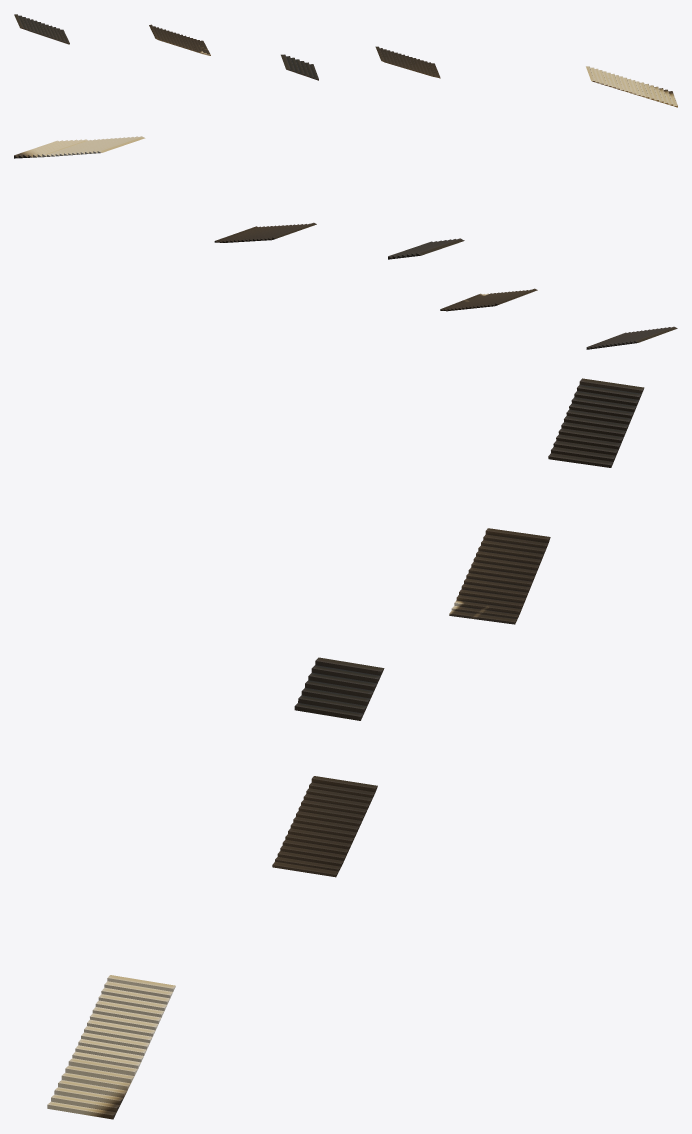
Rendered from Staircase.fbx.
The picture shows the model from 3 angles, top to bottom: view 1: azimuth 30°, elevation 25°; view 2: azimuth 150°, elevation 25°; view 3: azimuth 270°, elevation 25°; orthographic projection. The views are drawn at different scales.
Parts seen in each view (by area): view 1: Staircase; view 2: Staircase; view 3: Staircase.
Boxes of the visible parts, x1,y1,x2,y2 form: Staircase: (14,14,677,107); Staircase: (14,136,677,349); Staircase: (47,378,644,1119).
Size of the model in its own units: 64.76 by 12.65 by 31.3.
1 material, 1 textured.
